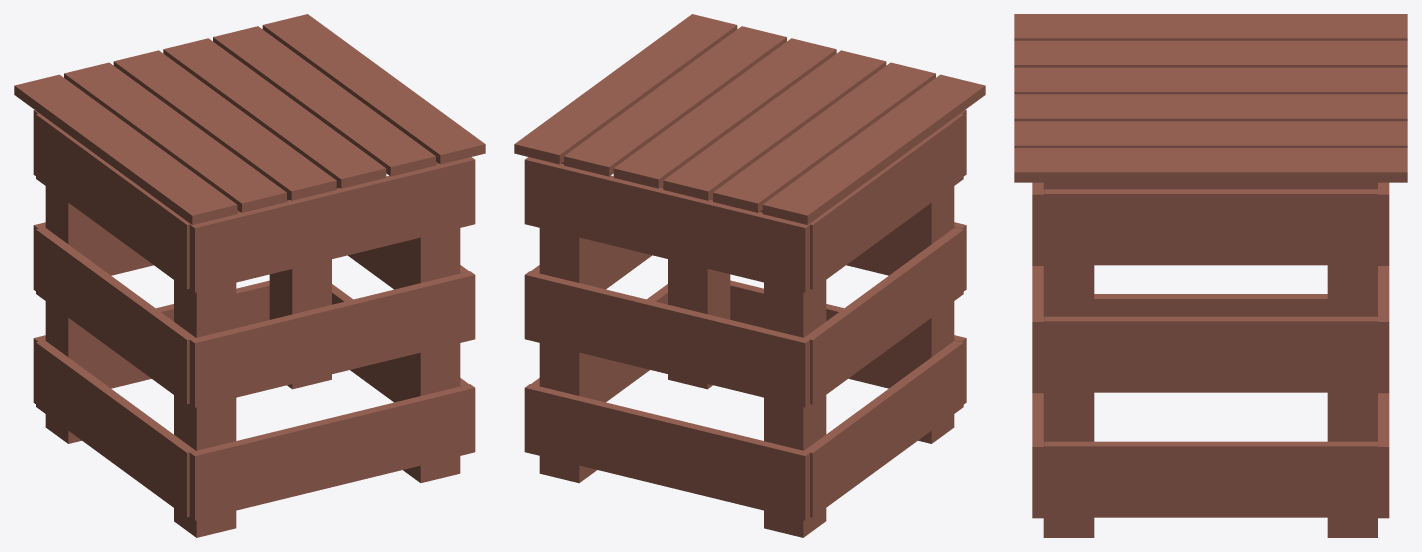
Rendered from CHAIR.fbx.
The picture shows the model from 3 angles, left to right: view 1: azimuth 30°, elevation 25°; view 2: azimuth 150°, elevation 25°; view 3: azimuth 270°, elevation 25°; orthographic projection. The views are drawn at different scales.
Parts seen in each view (by area): view 1: Plane, Plane.002, Plane.003, Plane.001, Cube.003, Cube.002, Cube, Cube.001; view 2: Plane, Plane.002, Plane.003, Plane.001, Cube, Cube.001, Cube.003, Cube.002; view 3: Plane, Plane.002, Plane.003, Plane.001, Cube.002, Cube.001.
Boxes of the visible parts, x1,y1,x2,y2 form: Plane: [14, 14, 485, 224]; Plane.002: [33, 280, 475, 520]; Plane.003: [33, 186, 475, 407]; Plane.001: [33, 110, 475, 292]; Cube.003: [174, 280, 236, 537]; Cube.002: [398, 161, 460, 482]; Cube: [45, 186, 107, 443]; Cube.001: [269, 198, 331, 389]; Plane: [514, 14, 985, 224]; Plane.002: [524, 280, 966, 520]; Plane.003: [524, 186, 966, 407]; Plane.001: [524, 110, 966, 292]; Cube: [764, 280, 826, 537]; Cube.001: [539, 161, 601, 483]; Cube.003: [892, 186, 954, 443]; Cube.002: [668, 198, 730, 389]; Plane: [1014, 14, 1407, 182]; Plane.002: [1032, 294, 1389, 518]; Plane.003: [1032, 182, 1389, 393]; Plane.001: [1032, 182, 1389, 265]; Cube.002: [1043, 182, 1094, 537]; Cube.001: [1327, 182, 1377, 537].
Size of the model in its own units: 109 by 119 by 114.
